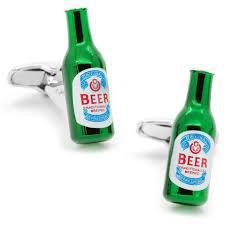beer: (63, 7, 113, 143)
